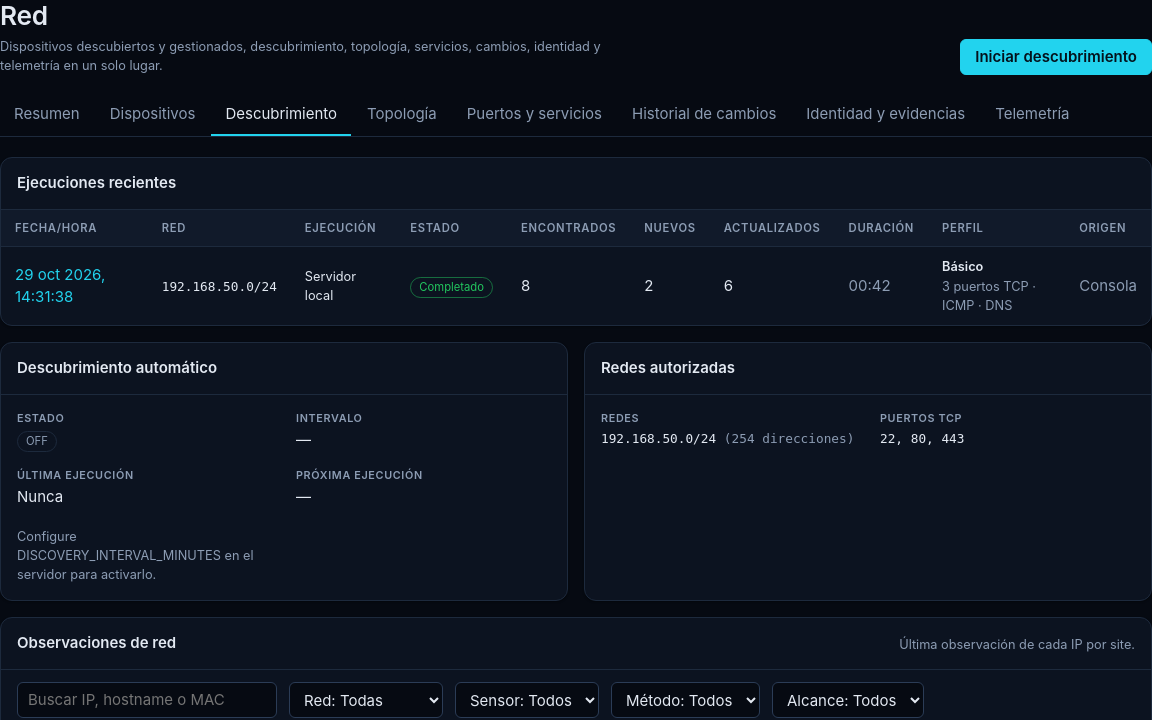
Test case: NetworkPage: descubrimiento desde el dashboard › completed: resultado, cambios y ver dispositivos
The width and height of the screenshot is (1152, 720).
Click the button "29 oct 2026, 14:31:38".
click(74, 286)  # box [15,264,134,309]
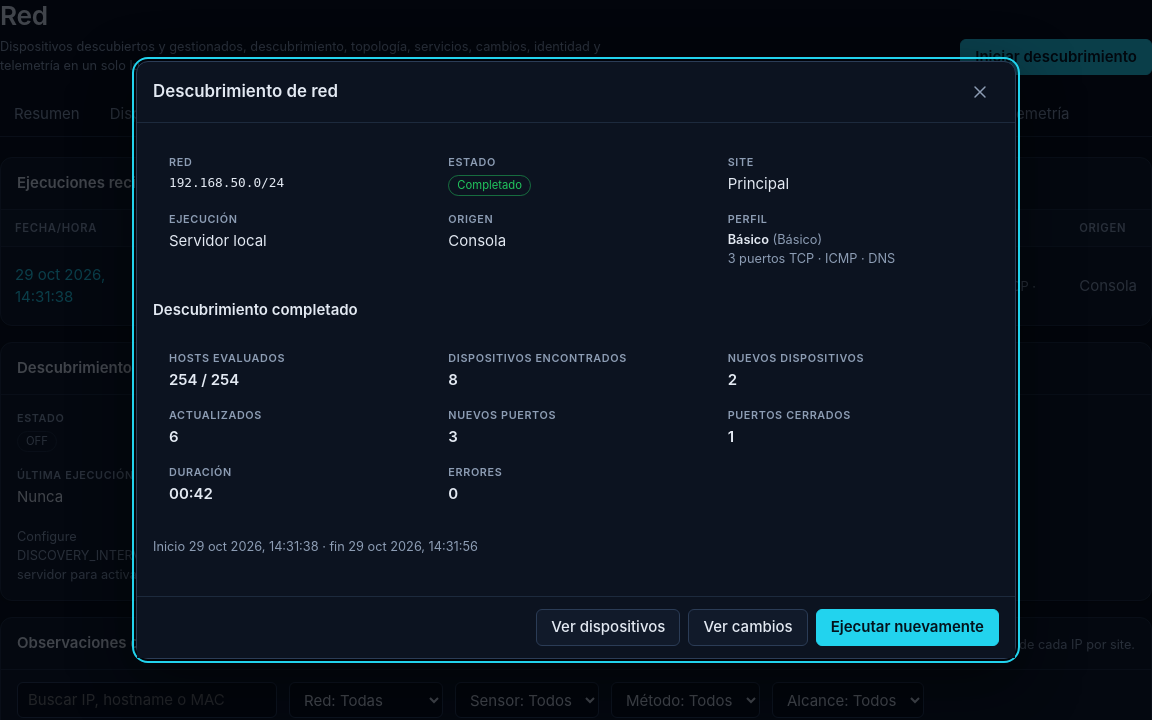
Check: the heading "Descubrimiento completado" is shown, box [153,300,358,318]
Check: the text "254 / 254" is shown, box [169,370,239,390]
Check: the text "2" is shown, box [728,370,737,390]
Click the button "Ver cambios".
click(748, 628)  # box [688,610,808,646]
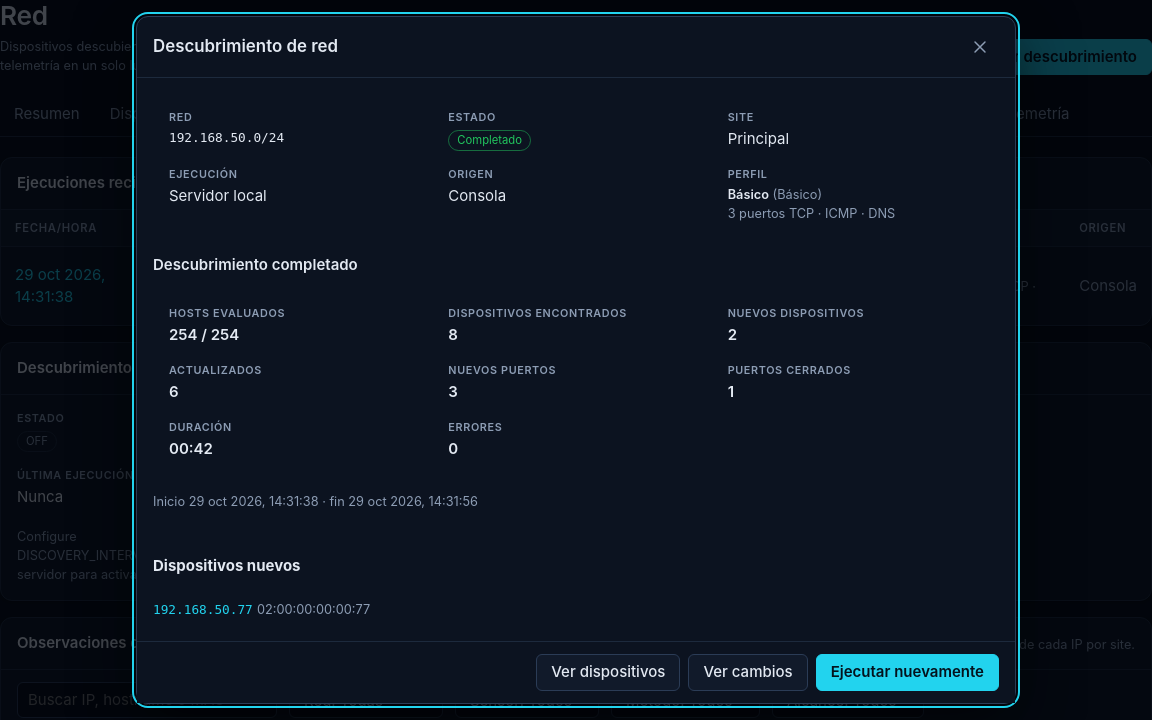
Check: the button "Ejecutar nuevamente" is enabled, box [816,654,999,691]
Check: the heading "Dispositivos nuevos" is shown, box [153,556,300,575]
Check: the link "192.168.50.77" is shown, box [153,602,253,617]
Click the button "Ver dispositivos".
click(608, 673)  # box [536,654,680,691]
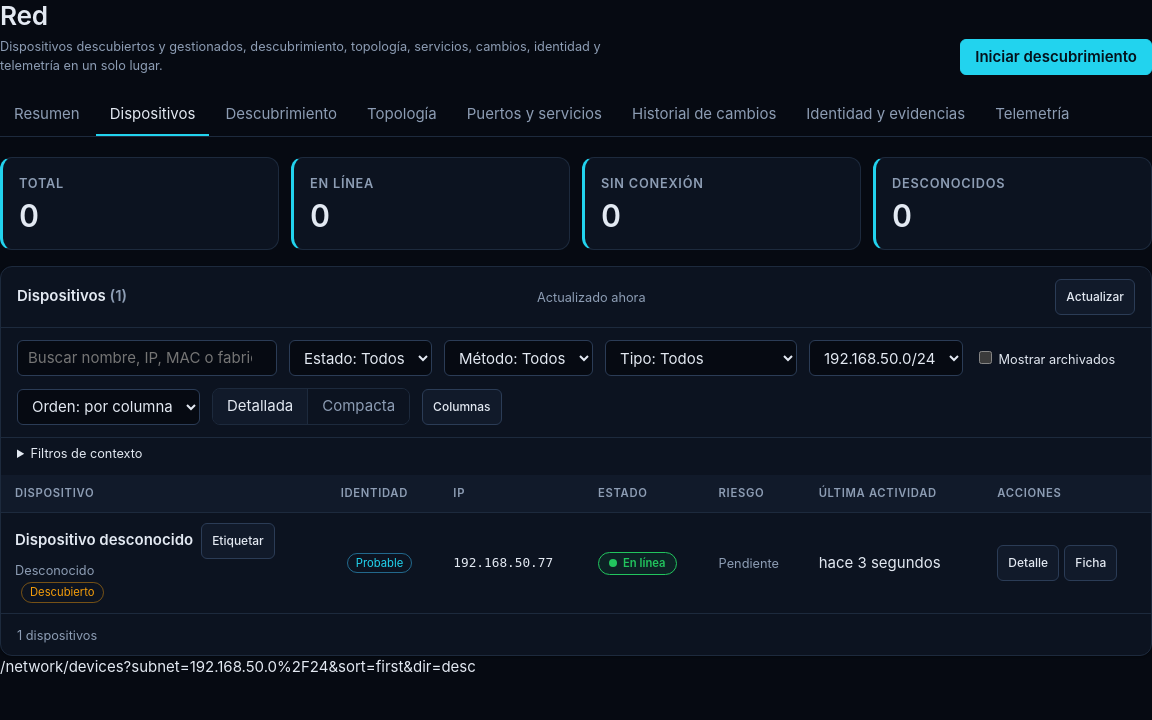
Check: the dialog is gone
Check: the text "192.168.50.77" is shown, box [439,512,584,613]
